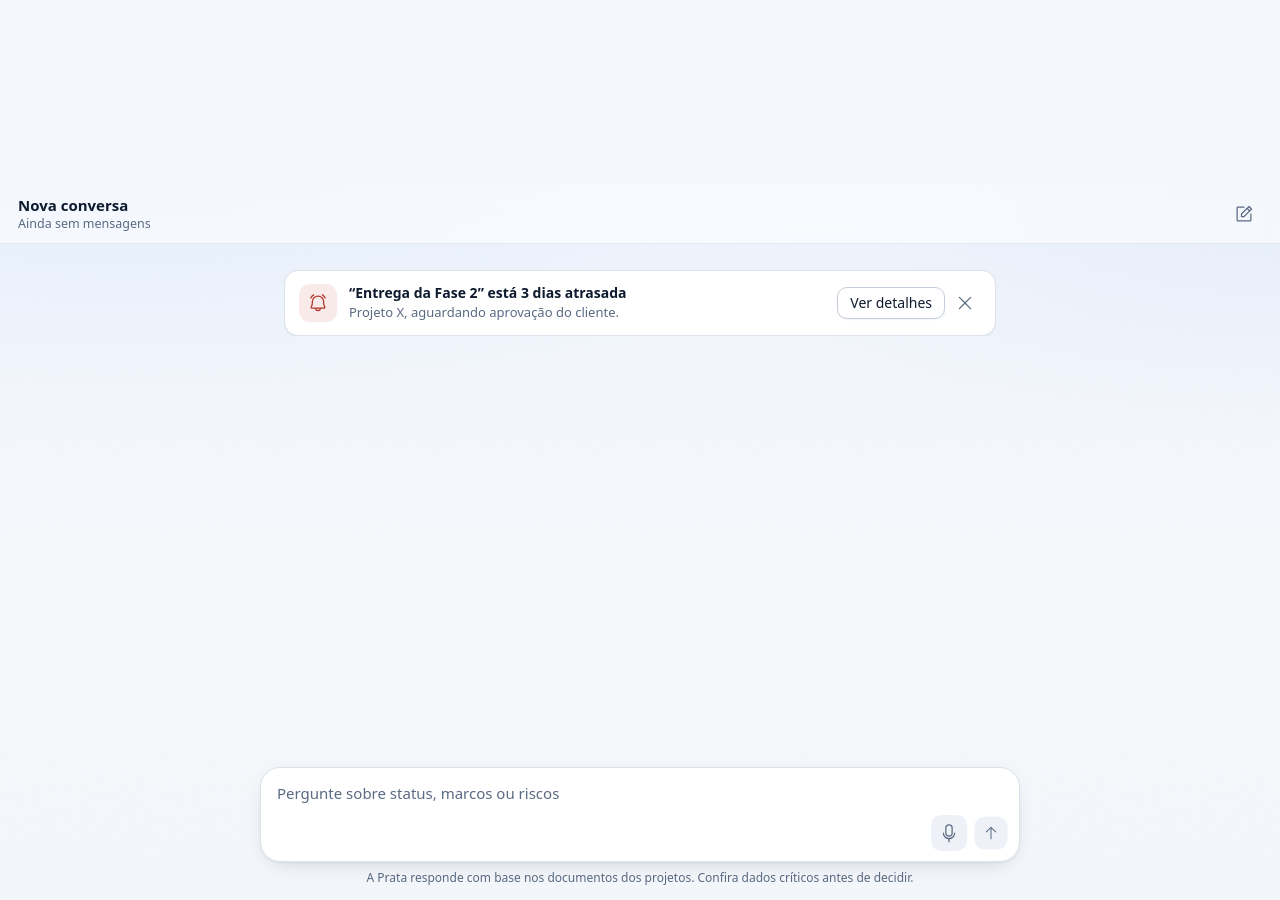
it: Conversa contra o middleware › não exibe o texto cru de um 500 sem JSON
(page scrolled)
Type "Qual o status do Projeto X?" into the text box named "Mensagem" at (643, 793), box x1=277 y1=780 x2=1009 y2=807
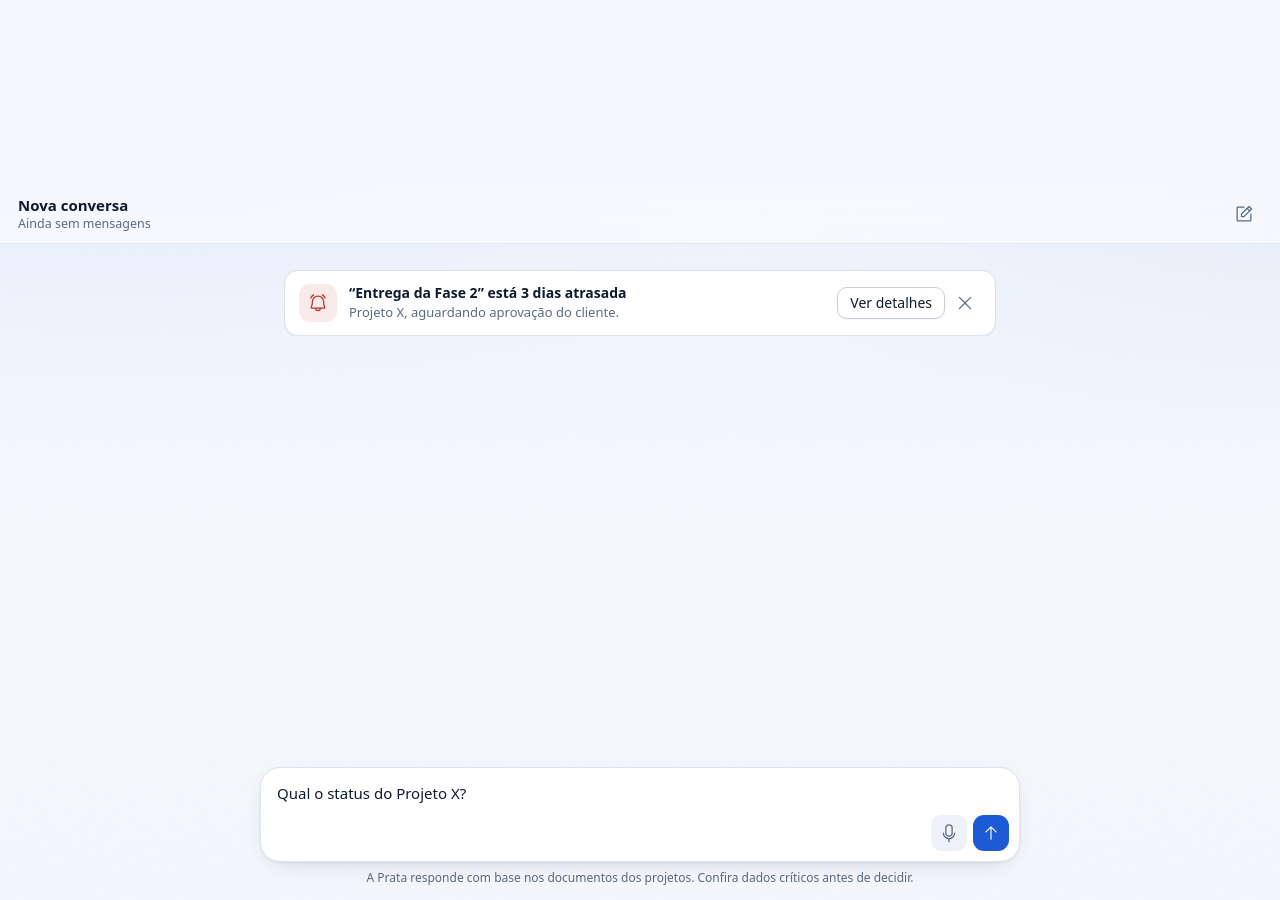
Press Enter in the text box named "Mensagem", box x1=277 y1=780 x2=1009 y2=807
(page scrolled)
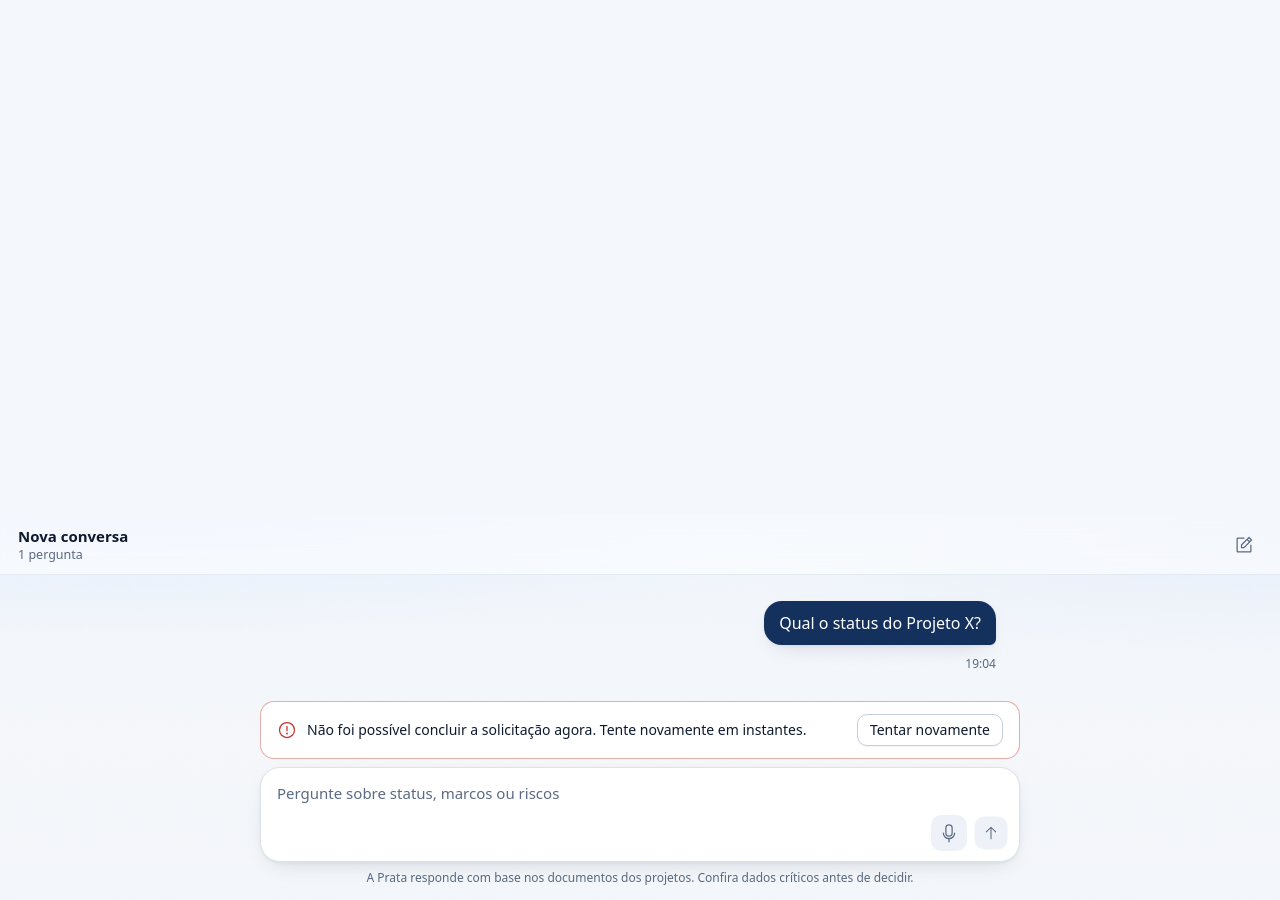
Expected: the message shows "Não foi possível concluir a solicitação", x1=307 y1=720 x2=806 y2=739
